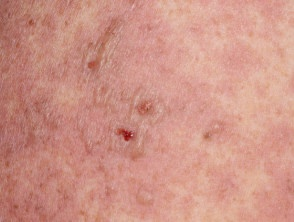SJS-TEN: (82, 80, 177, 168)
